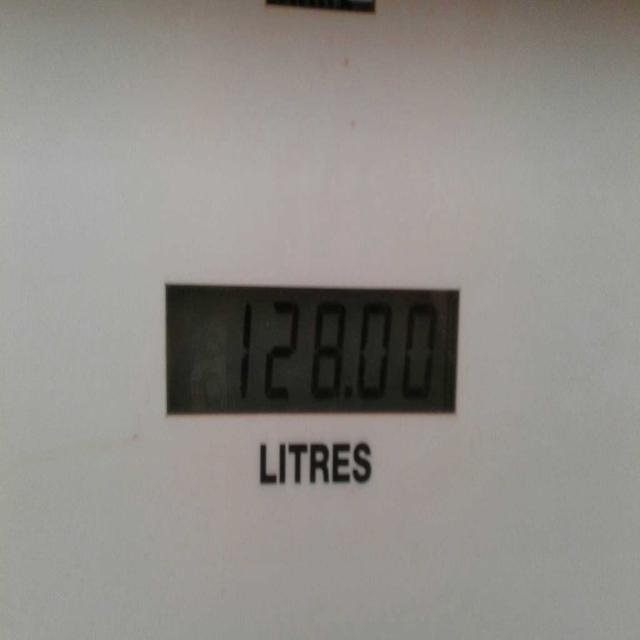.: (342, 381, 356, 406)
0: (400, 300, 444, 402), (356, 303, 394, 409)
9: (305, 297, 352, 418), (260, 300, 302, 413), (231, 299, 256, 410)
